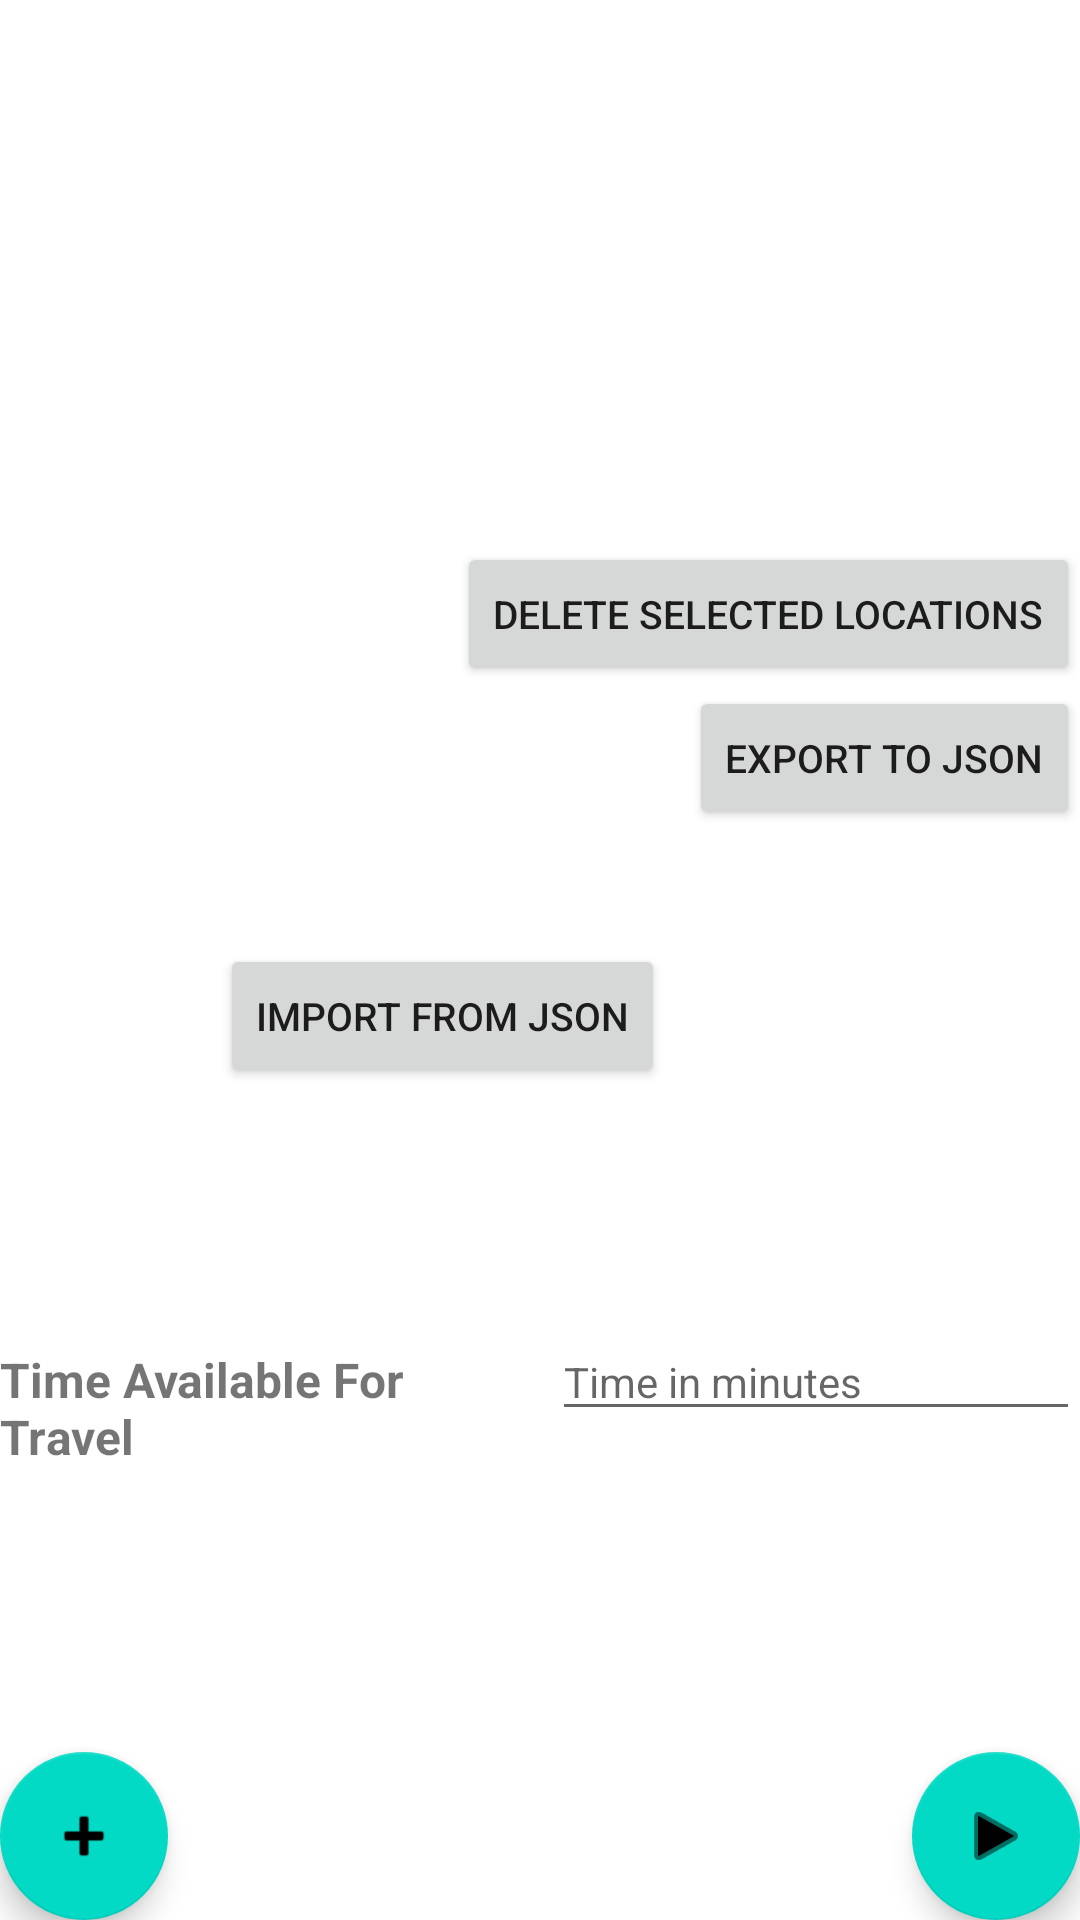

Icons on this 1080 x 1920 Android screen, each with the point to tap as [x,y]:
Click to add a Location: [84,1836]
